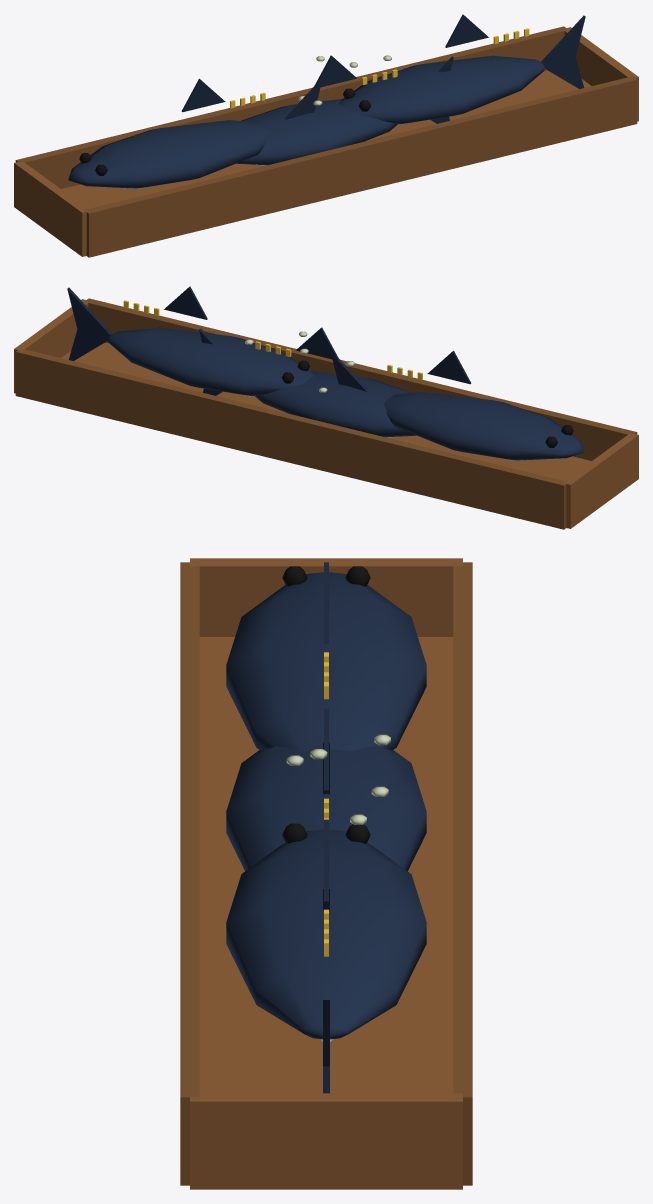
File: Fish_Tuna.fbx
The picture shows the model from 3 angles, top to bottom: view 1: azimuth 30°, elevation 25°; view 2: azimuth 150°, elevation 25°; view 3: azimuth 270°, elevation 25°; orthographic projection. The views are drawn at different scales.
Parts seen in each view (by area): view 1: Fish_Tuna__Stack, Fish_Tuna; view 2: Fish_Tuna__Stack, Fish_Tuna; view 3: Fish_Tuna__Stack, Fish_Tuna.
Part boxes in pixels (box(x1,y1,x2,y2)): Fish_Tuna__Stack: box(14, 14, 638, 257); Fish_Tuna: box(236, 55, 453, 165); Fish_Tuna__Stack: box(14, 286, 638, 529); Fish_Tuna: box(199, 327, 416, 437); Fish_Tuna__Stack: box(180, 558, 472, 1189); Fish_Tuna: box(226, 708, 426, 910).
Size of the model in its own units: 0.528 by 0.1052 by 0.1202.
